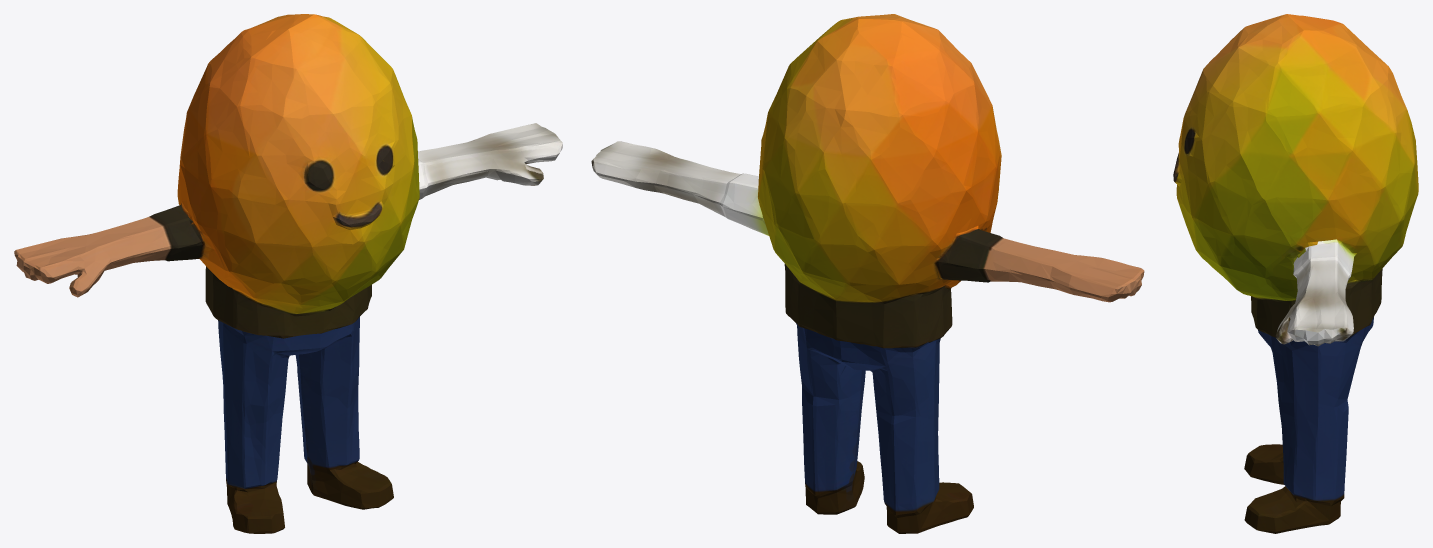
File: large-mango-1-each.glb
The picture shows the model from 3 angles, left to right: view 1: azimuth 30°, elevation 25°; view 2: azimuth 150°, elevation 25°; view 3: azimuth 270°, elevation 25°; orthographic projection. The views are drawn at different scales.
Visible parts, largest first — view 1: tmp50zff9pd.ply; view 2: tmp50zff9pd.ply; view 3: tmp50zff9pd.ply.
Part boxes in pixels (<box>): tmp50zff9pd.ply: <box>14,14,562,533</box>; tmp50zff9pd.ply: <box>591,14,1144,533</box>; tmp50zff9pd.ply: <box>1173,14,1418,533</box>.
Bounding box in the file's own units: 1.99 × 1.74 × 0.8063.
Materials: 1 (1 with a texture image).
